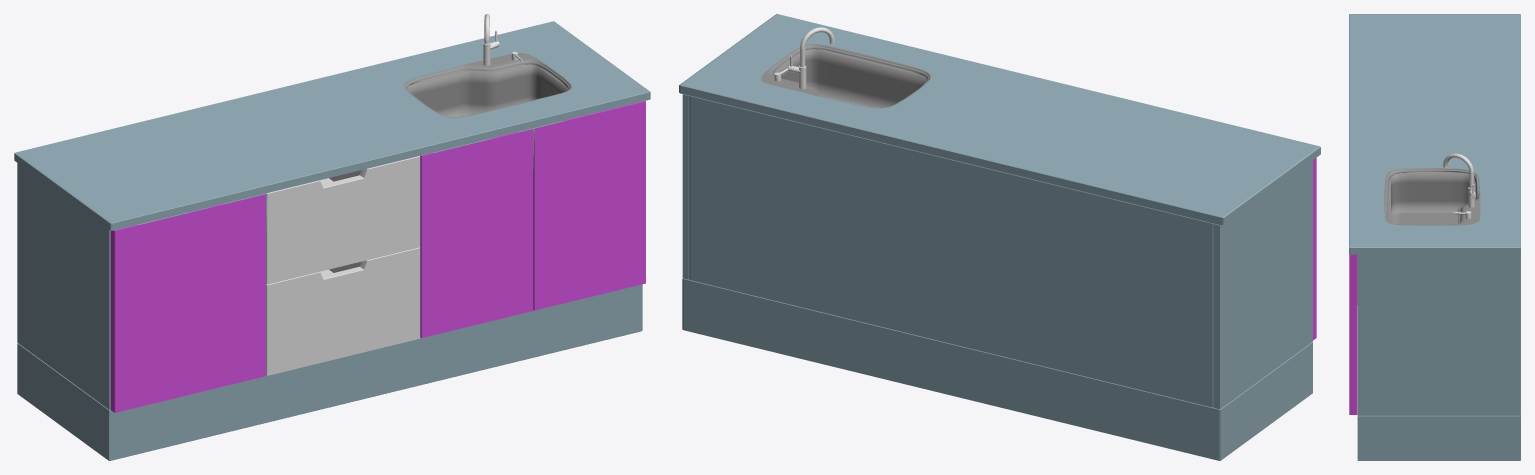
File: lavabo completo.FBX
3 views of the same model, side by side, from view 1: azimuth 30°, elevation 25°; view 2: azimuth 150°, elevation 25°; view 3: azimuth 270°, elevation 25° (orthographic). The views are drawn at different scales.
Visible parts, largest first — view 1: drawer2, Object003, Object001, Object, drawer005, drawer, Box001, Object007; view 2: drawer2, Box001, Object007, Tube001, Object003; view 3: drawer2, Box001, Object, Tube001.
Boxes of the visible parts, left/top/right/bottom form: drawer2: left=14, top=21, right=650, bottom=460; Object003: left=110, top=194, right=265, bottom=412; Object001: left=420, top=129, right=533, bottom=337; Object: left=533, top=101, right=645, bottom=310; drawer005: left=266, top=156, right=420, bottom=284; drawer: left=266, top=247, right=420, bottom=375; Box001: left=404, top=53, right=571, bottom=117; Object007: left=17, top=163, right=110, bottom=409; drawer2: left=679, top=14, right=1320, bottom=460; Box001: left=761, top=44, right=931, bottom=108; Object007: left=1214, top=161, right=1312, bottom=409; Tube001: left=774, top=27, right=834, bottom=89; Object003: left=1313, top=158, right=1316, bottom=340; drawer2: left=1349, top=14, right=1520, bottom=460; Box001: left=1384, top=168, right=1480, bottom=225; Object: left=1349, top=254, right=1357, bottom=414; Tube001: left=1443, top=153, right=1475, bottom=218.
Bounding box in the file's own units: 139 × 73.32 × 43.19.
